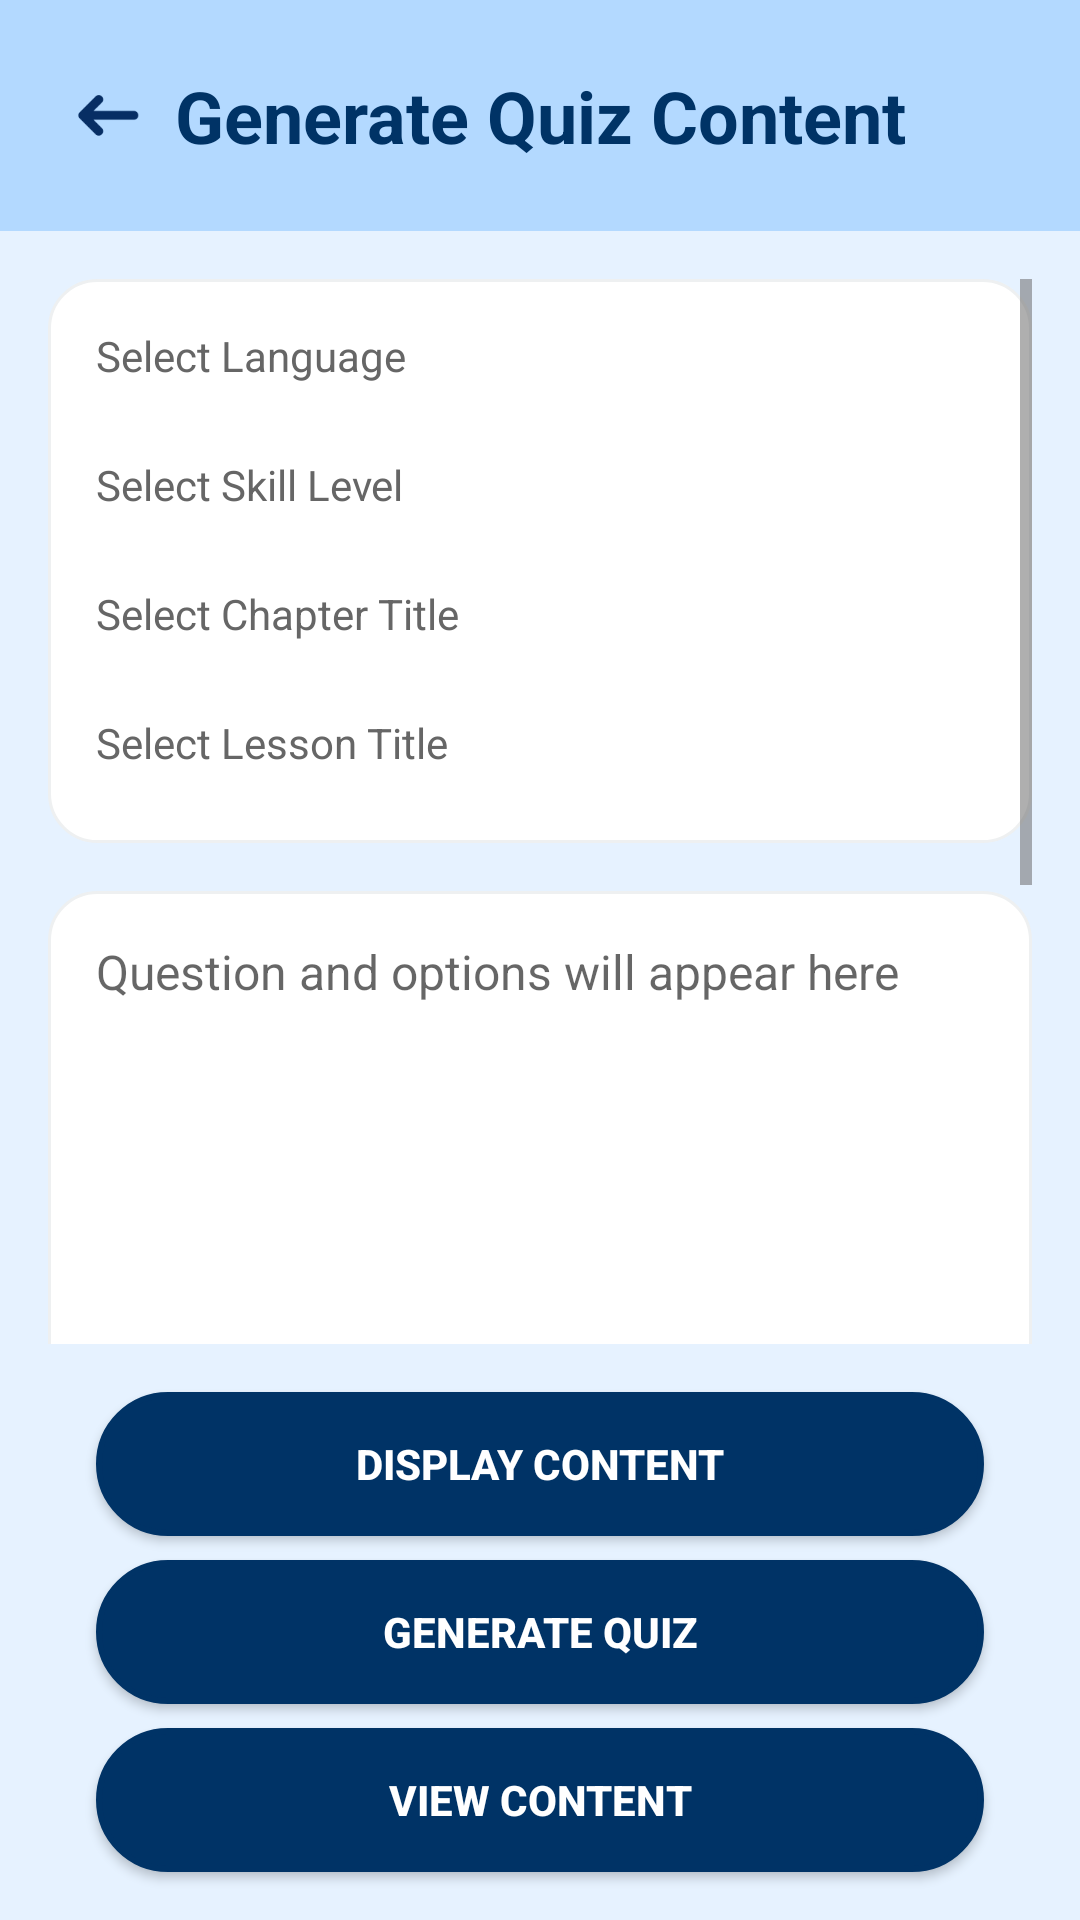

Named icons in this screenshot (1080 x 1920) and their centers, (x=x, y=y):
Back: (x=108, y=115)
